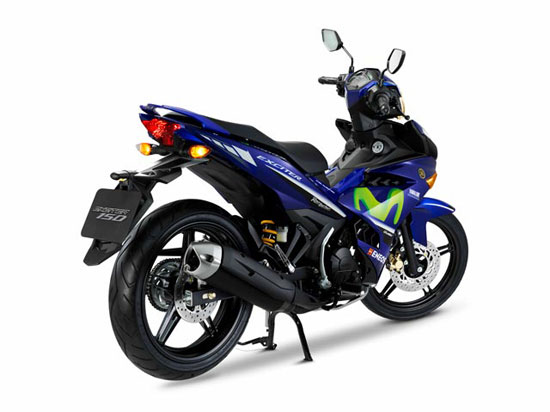motorcycle: (91, 65, 469, 377)
